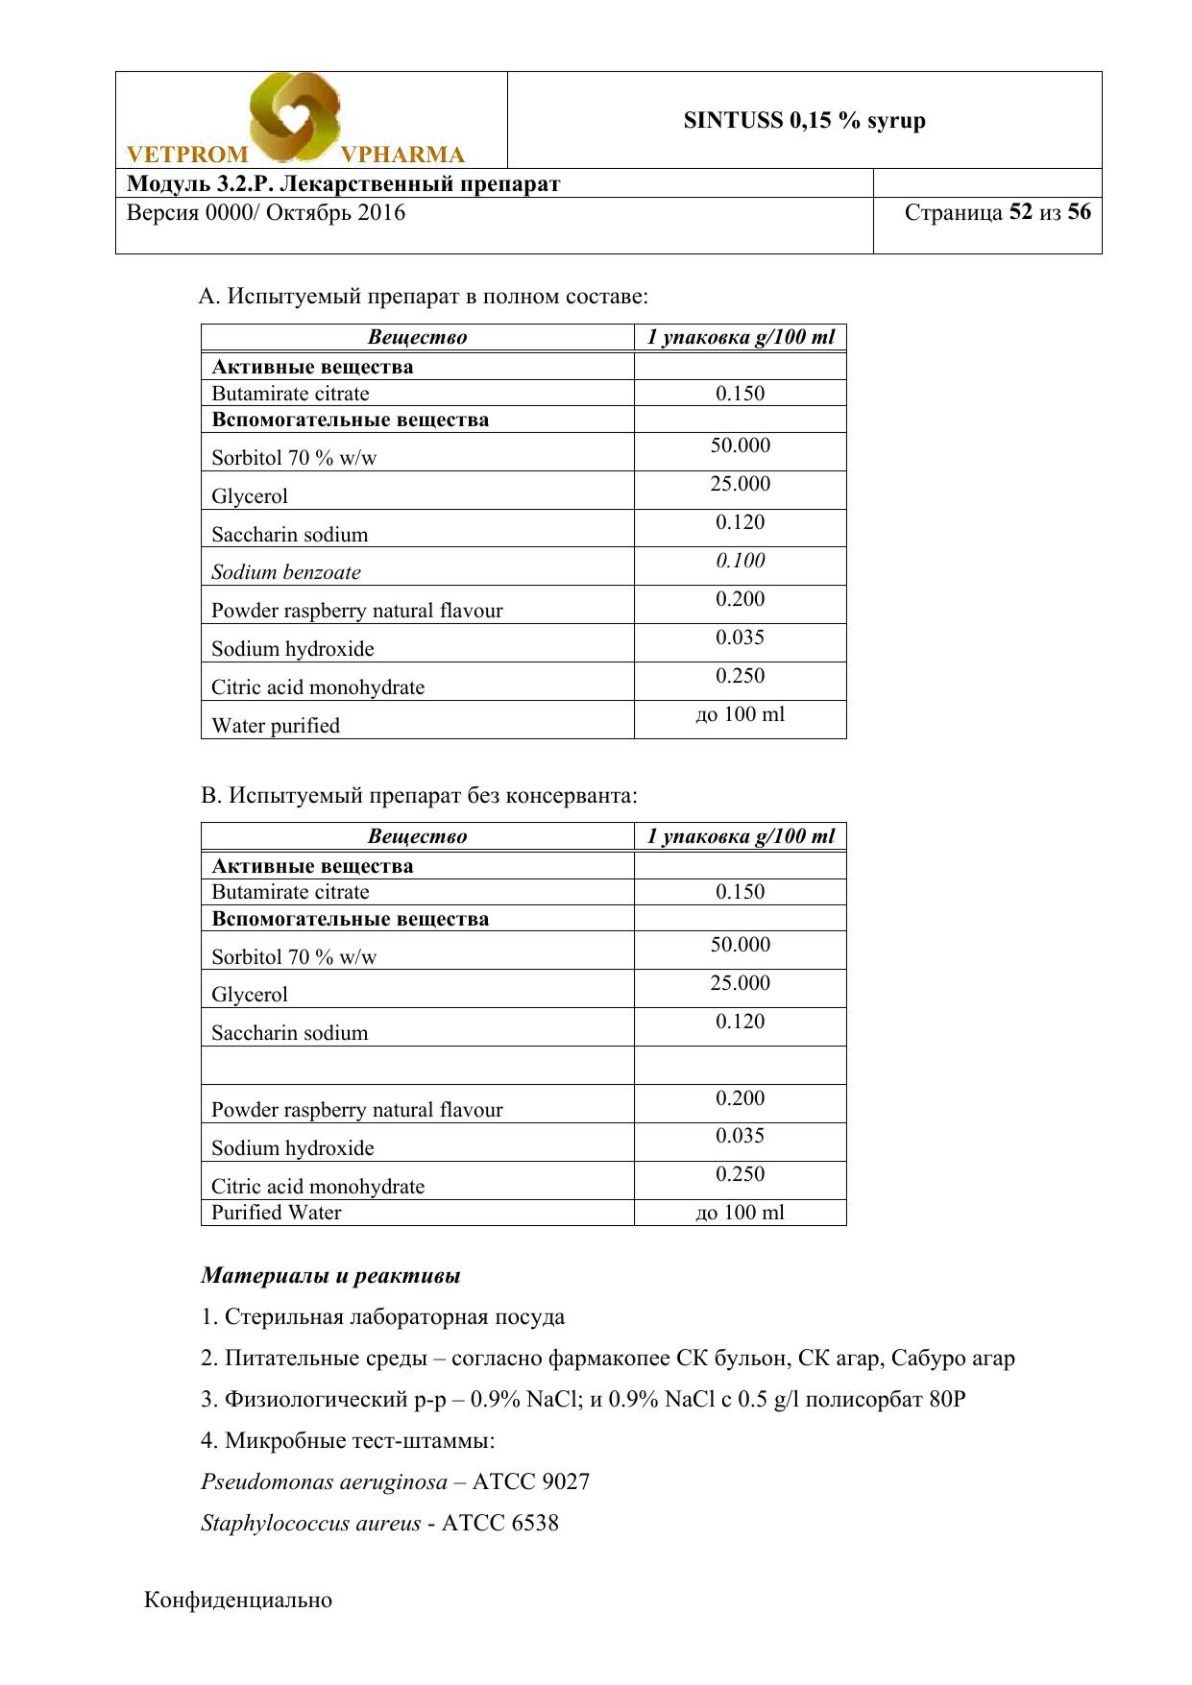full_lined: (199, 323, 848, 741), (200, 821, 848, 1227)
merged_cells: (114, 70, 1104, 255)
